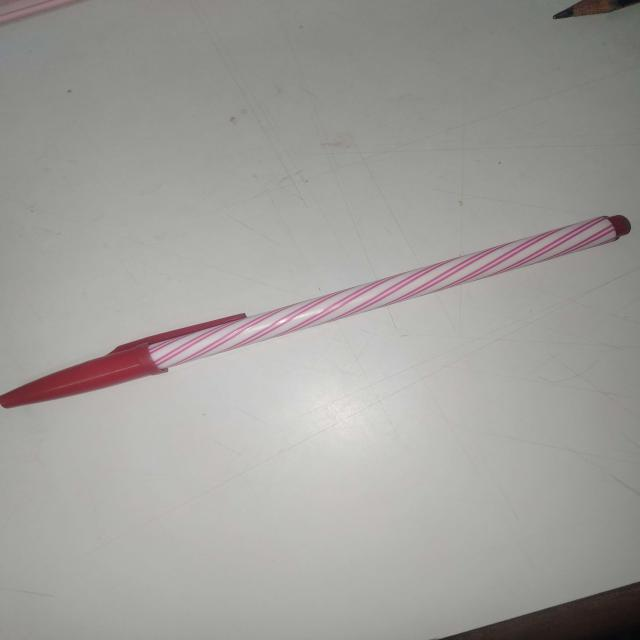pen_pencil: (0, 183, 640, 505)
